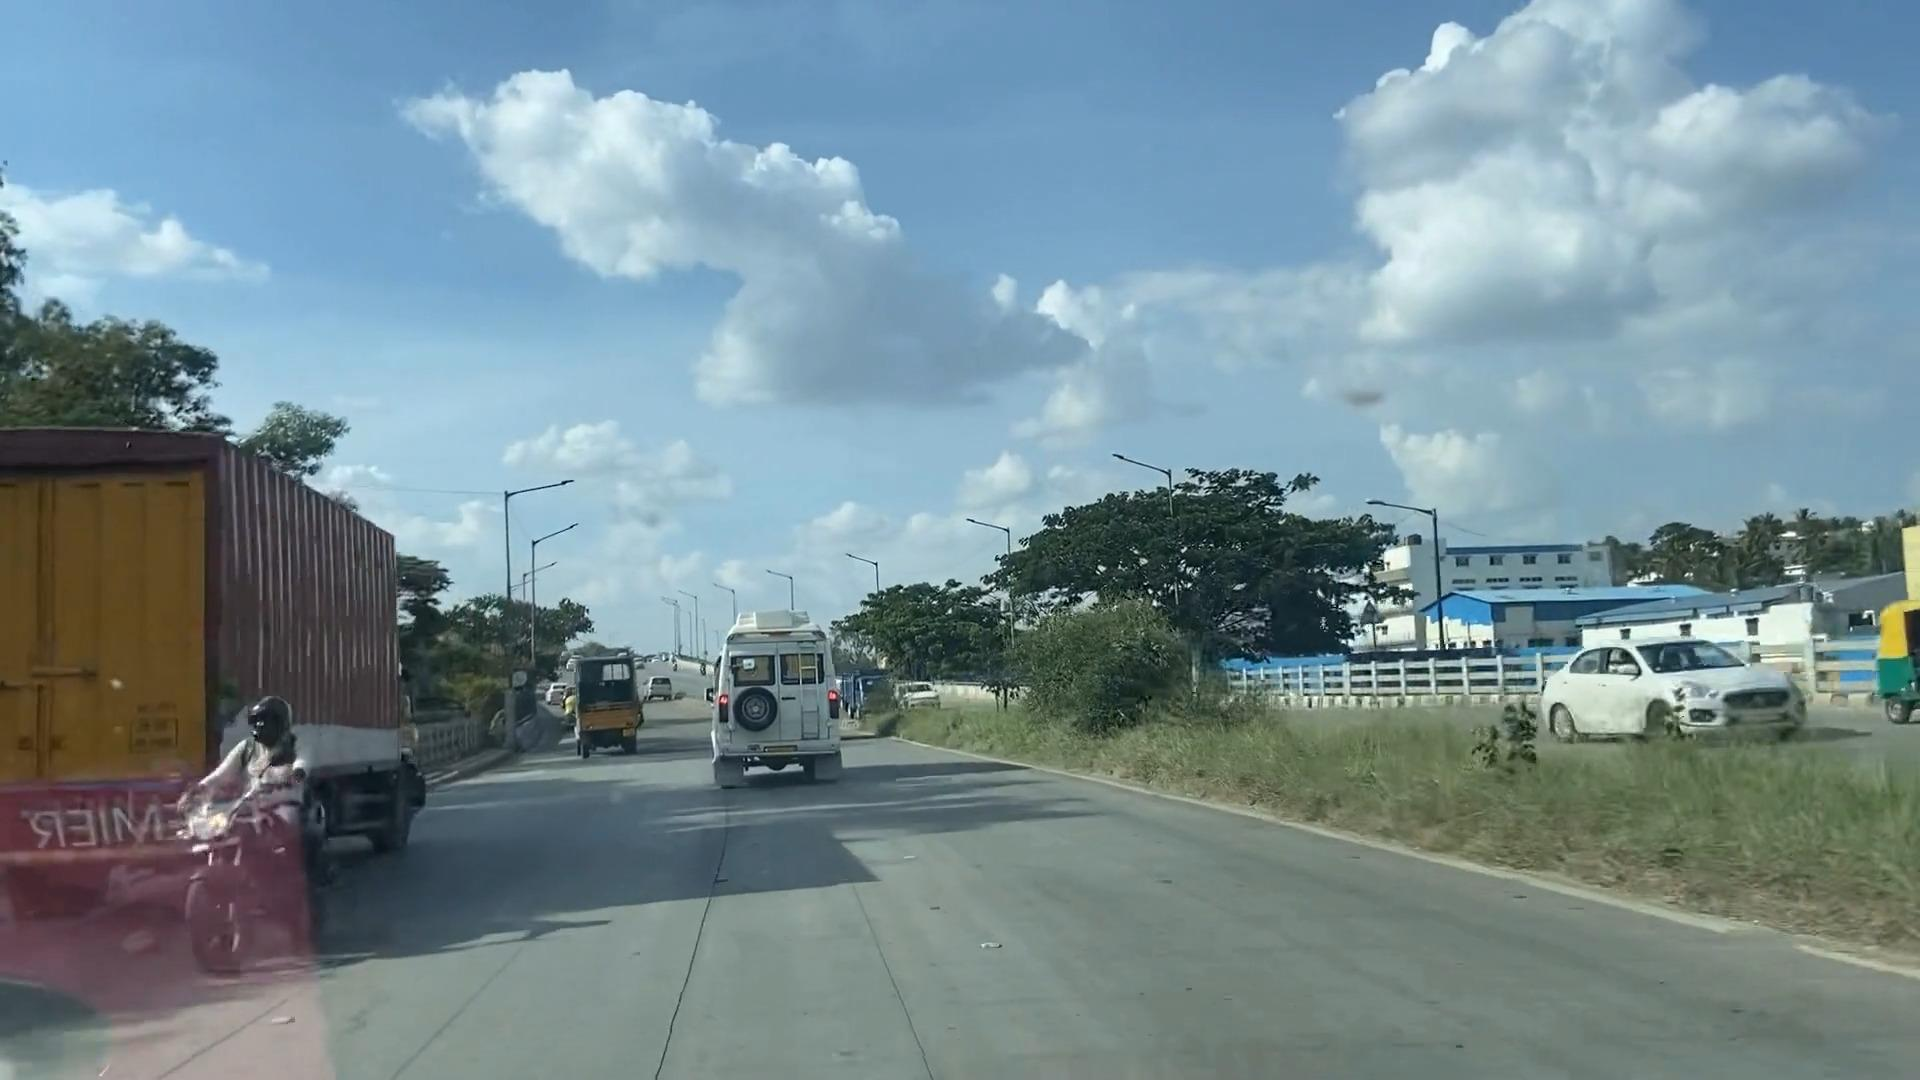HMV: (56, 392, 443, 884), (726, 624, 841, 797), (552, 624, 643, 776)
LMV: (188, 684, 321, 949)
